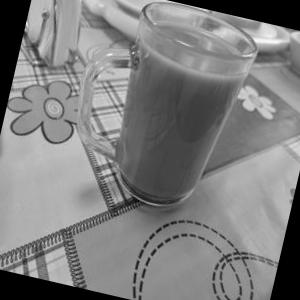coffee: (53, 0, 273, 236)
